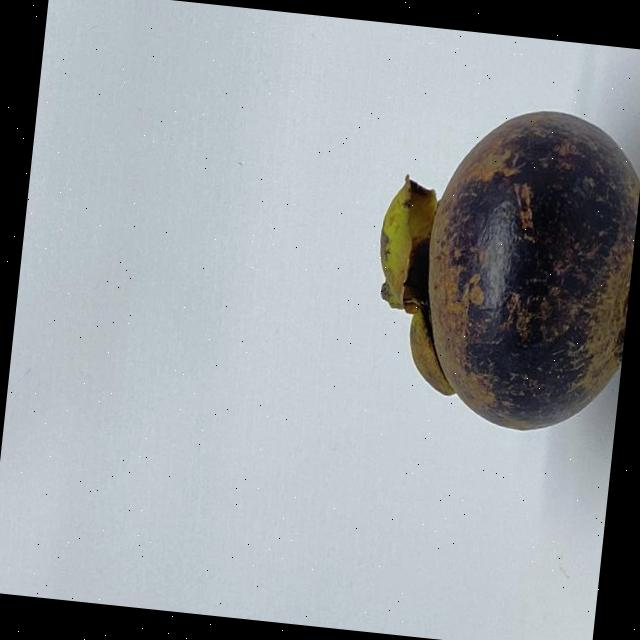mangosteen: (323, 76, 640, 461)
